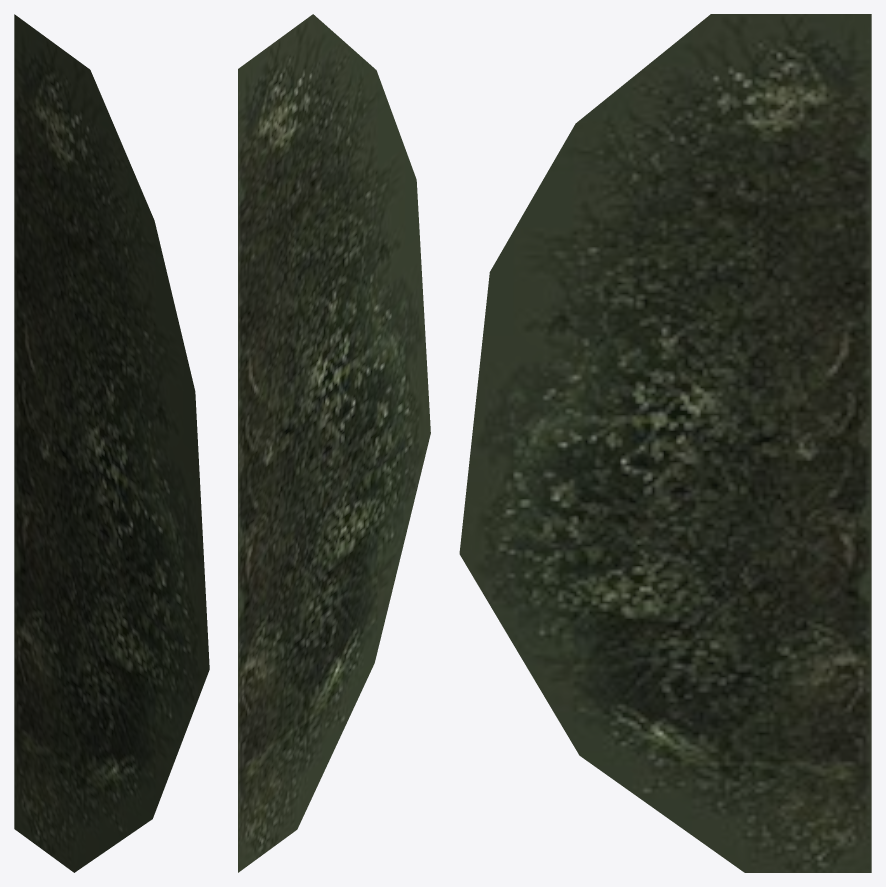
File: shadow_caen_hedge_wall_1.glb
The picture shows the model from 3 angles, left to right: view 1: azimuth 30°, elevation 25°; view 2: azimuth 150°, elevation 25°; view 3: azimuth 270°, elevation 25°; orthographic projection. The views are drawn at different scales.
Bounding box in the file's own units: 4.77e-05 × 384 × 167.
1 material, 1 textured.
